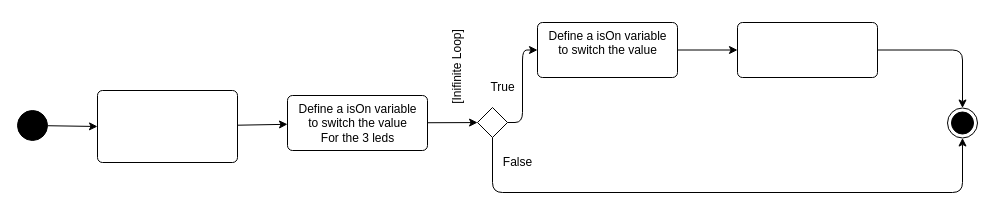
The diagram is 995 pixels wide and 218 high, and some of its shapes have lost their labels. The centre of each missing label's shape, as x and y in pixels:
Change the gpio_set_level function for the 3 leds: pixel 807 50
Set the direction of GPIO , in this case is OUTPUT Make for the 3 leds: pixel 167 126
